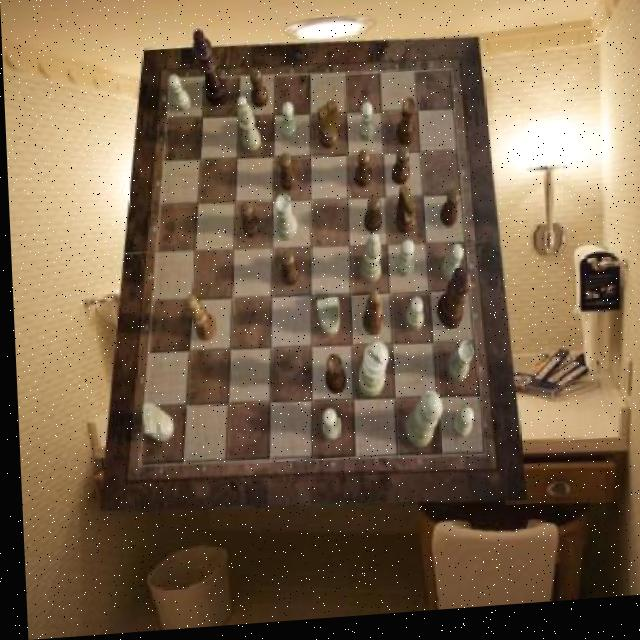bishop: (185, 298, 214, 347), (359, 295, 381, 342)
black-bishop: (192, 32, 229, 111)
black-king: (393, 190, 415, 241), (317, 104, 339, 154)
black-knight: (437, 196, 459, 234), (277, 254, 298, 290), (237, 206, 257, 243), (249, 72, 267, 113), (389, 154, 408, 192), (352, 154, 370, 193), (277, 157, 295, 195), (362, 203, 380, 240)
black-pawn: (432, 272, 472, 336)
black-queen: (396, 105, 417, 154), (321, 359, 343, 401)
black-rook: (236, 99, 261, 155), (355, 239, 380, 291)
white-bishop: (353, 346, 387, 404)
white-king: (139, 405, 171, 447), (314, 301, 339, 342)
white-knight: (168, 75, 190, 115), (437, 251, 461, 286), (448, 413, 471, 447), (392, 246, 413, 283), (318, 412, 339, 446), (280, 106, 297, 146), (402, 301, 421, 336), (357, 108, 374, 147)
white-pawn: (399, 397, 439, 455)
white-queen: (444, 347, 472, 389), (274, 199, 296, 245)
